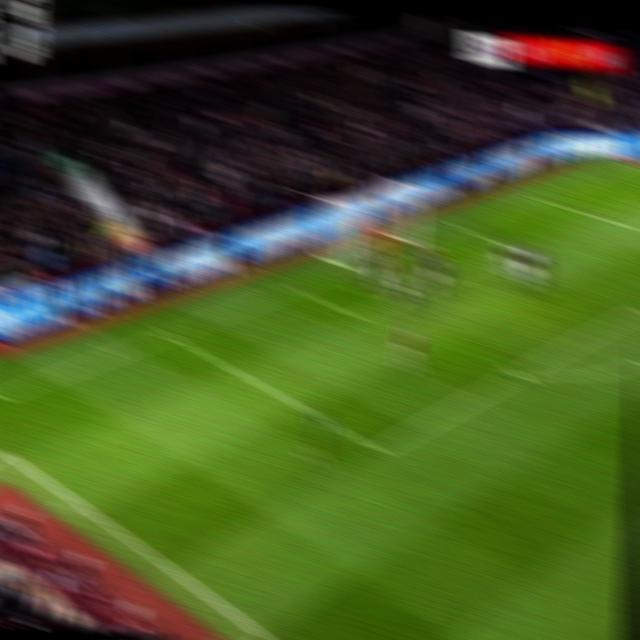bigarea_bottom_inner: (364, 431, 398, 465)
bigarea_bottom_outter: (157, 321, 184, 346)
bigarea_top_outter: (526, 187, 551, 207)
bottom_arc_area_intersection: (505, 359, 533, 386)
corner: (612, 156, 640, 175)
smallarea_bottom_inner: (344, 301, 372, 328)
smallarea_bottom_outter: (283, 275, 310, 299)
smallarea_top_outter: (446, 216, 473, 238)
